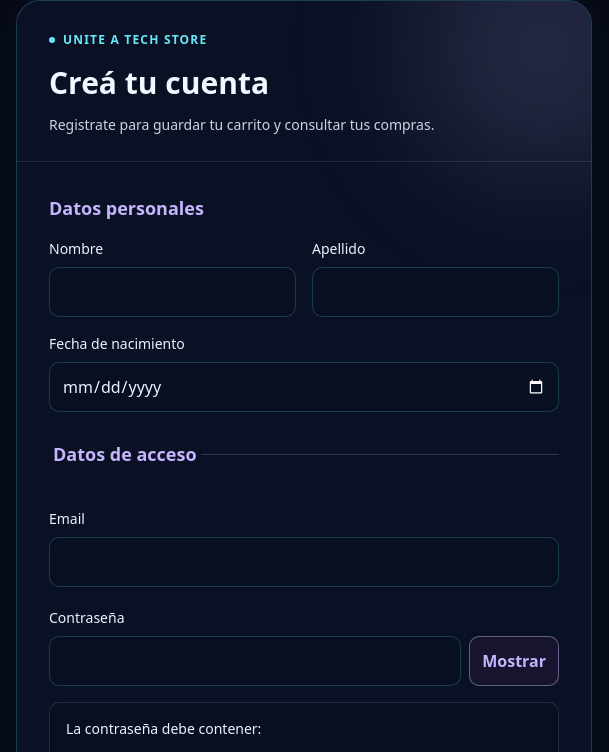
RegisterPage › rechaza contraseñas que no coinciden sin crear una cuenta
Type "Agustín" into the field labelled "Nombre" at (172, 292), box [49, 267, 296, 317]
Type "Spataro" into the field labelled "Apellido" at (436, 292), box [312, 267, 559, 317]
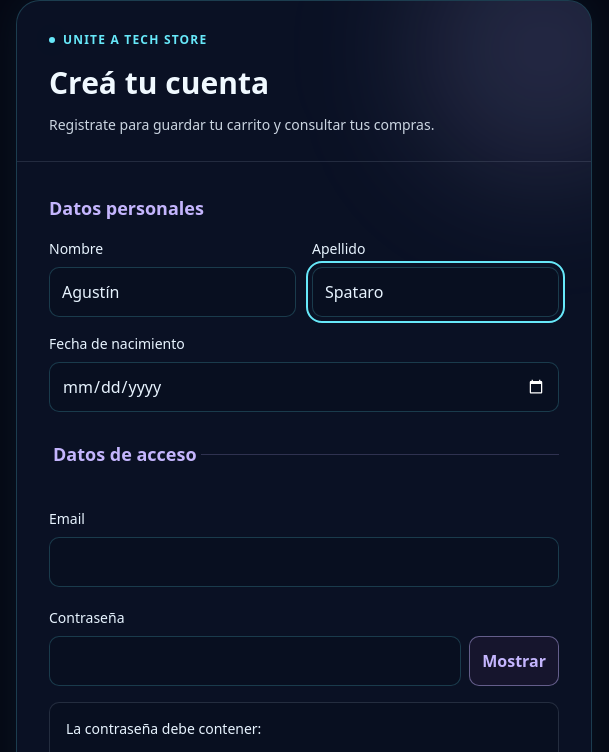
Type "1990-11-02" into the date field labelled "Fecha de nacimiento" at (304, 387), box [49, 362, 559, 412]
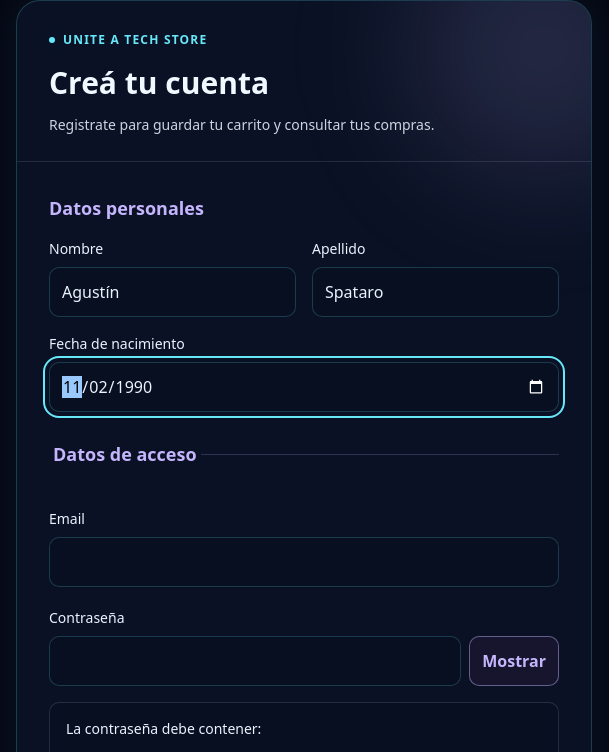
Type "agustin@example.com" into the field labelled "Email" at (304, 562), box [49, 537, 559, 587]
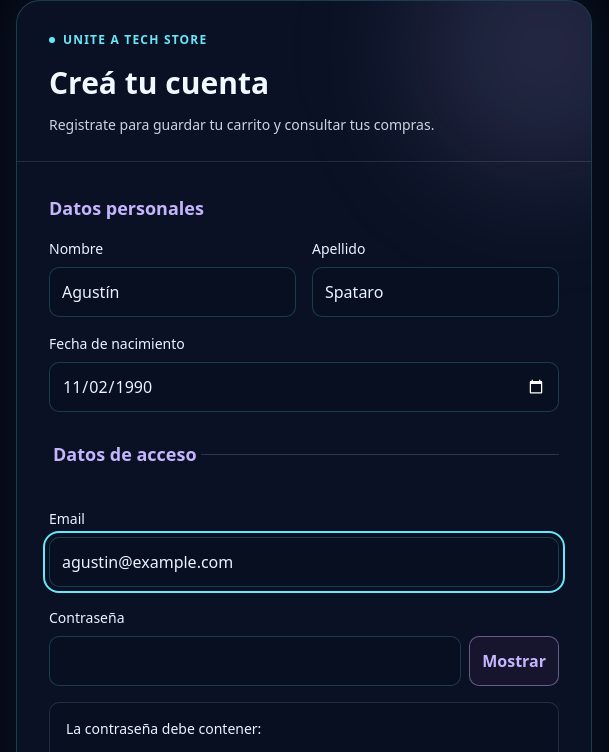
Type "TechStore123!" into the password field labelled "Contraseña" at (255, 661), box [49, 636, 461, 686]
(page scrolled)
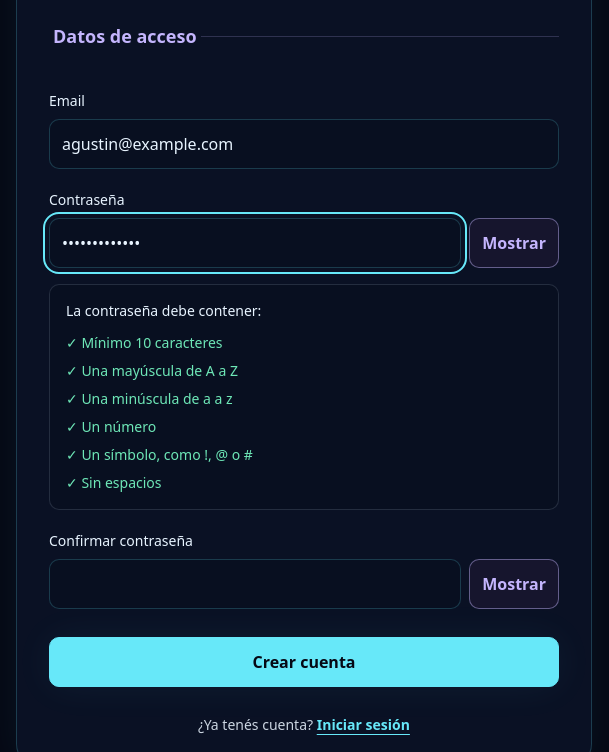
Type "OtraClave123!" into the password field labelled "Confirmar contraseña" at (255, 584), box [49, 559, 461, 609]
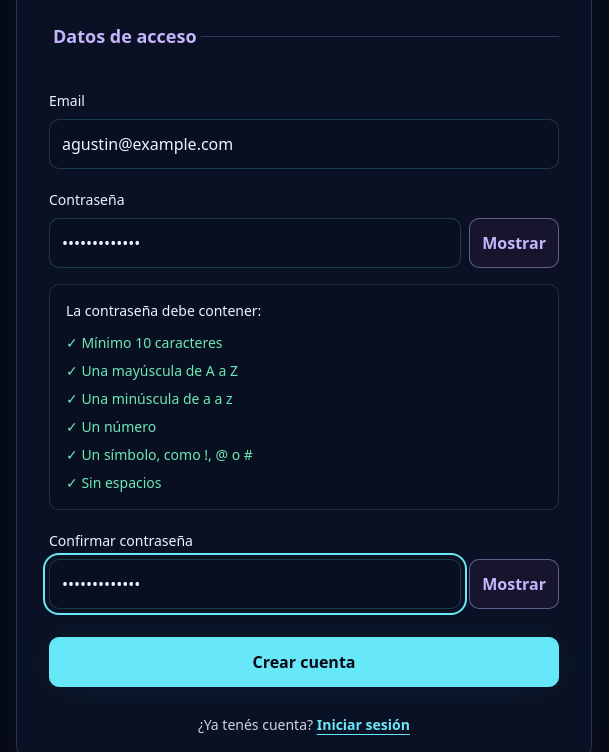
Click the button "Crear cuenta" at (304, 662), box [49, 637, 559, 687]
(page scrolled)
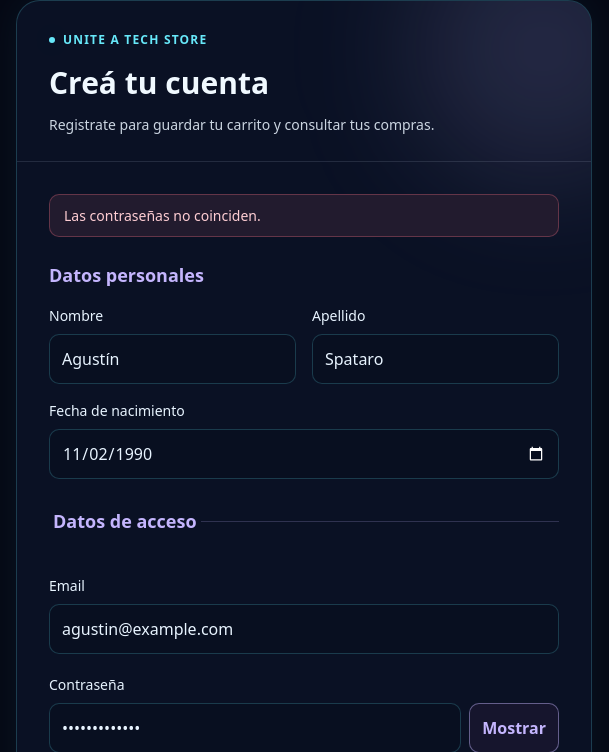
Now the message reads "Las contraseñas no coinciden.", box [64, 206, 261, 225]
